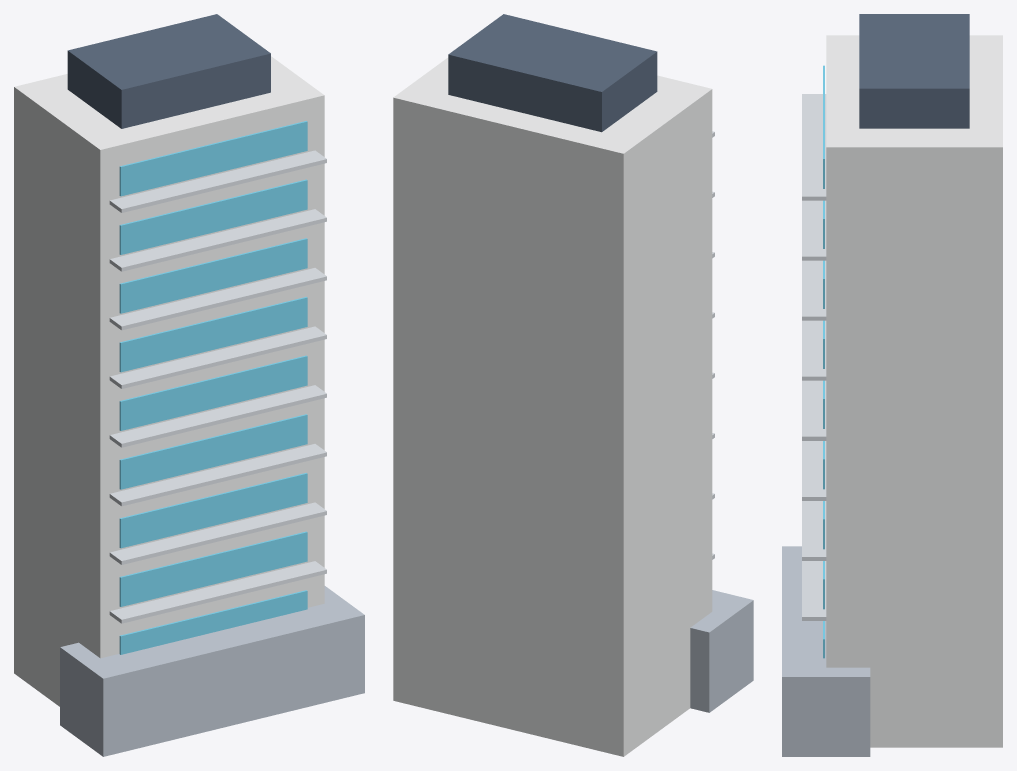
The model's file is high_rise_residence.gltf.
3 renders of one model, left to right at view 1: azimuth 30°, elevation 25°; view 2: azimuth 150°, elevation 25°; view 3: azimuth 270°, elevation 25°, orthographic. The views are drawn at different scales.
Size of the model in its own units: 140 by 320 by 100.
